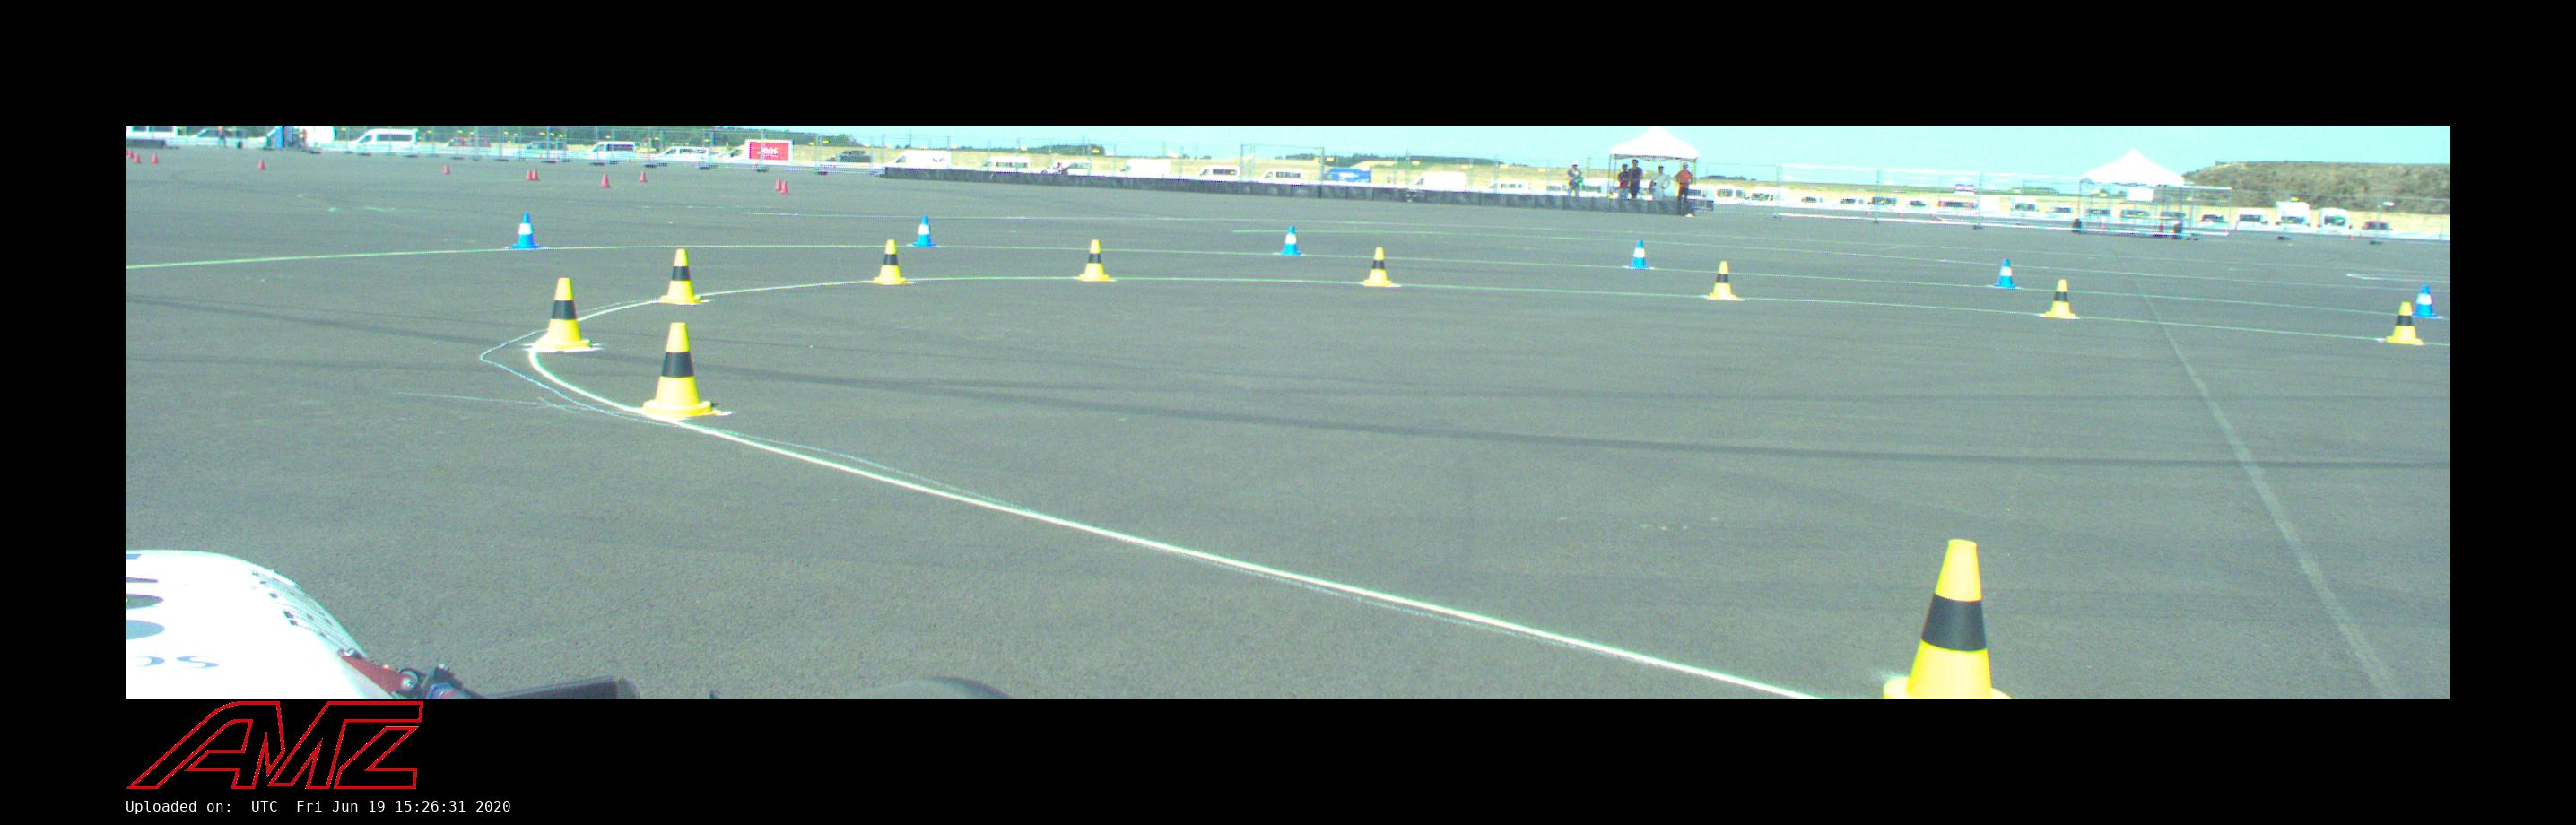blue_cone: (509, 213, 539, 248), (2413, 285, 2437, 317), (913, 215, 935, 247), (1995, 258, 2015, 289), (1282, 226, 1301, 256), (1630, 240, 1648, 269)
yellow_cone: (1886, 542, 2010, 698), (643, 322, 710, 414), (535, 279, 589, 348), (661, 250, 699, 300), (875, 239, 907, 282), (2388, 302, 2421, 343), (2044, 280, 2076, 318), (1080, 239, 1109, 280), (1364, 248, 1391, 286), (1709, 261, 1736, 299)
